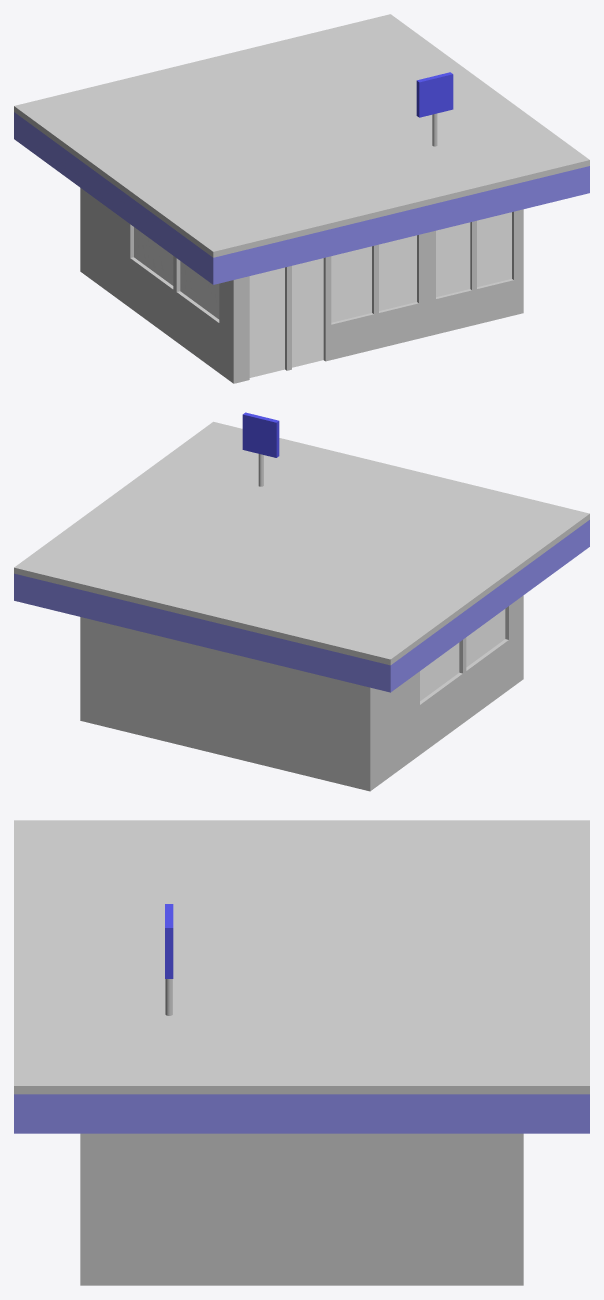
File: konbini.fbx
3 views of the same model, one above another, from view 1: azimuth 30°, elevation 25°; view 2: azimuth 150°, elevation 25°; view 3: azimuth 270°, elevation 25° (orthographic). The views are drawn at different scales.
Visible parts, largest first — view 1: konbini, pCube1; view 2: konbini, pCube1; view 3: konbini, pCube1.
Part boxes in pixels (box(x1,y1,x2,y2)): konbini: box(14, 14, 589, 383); pCube1: box(416, 72, 453, 117); konbini: box(14, 421, 589, 791); pCube1: box(242, 412, 279, 457); konbini: box(14, 820, 589, 1285); pCube1: box(165, 904, 173, 978).
Bounding box in the file's own units: 7.8 × 4.5 × 7.15.
